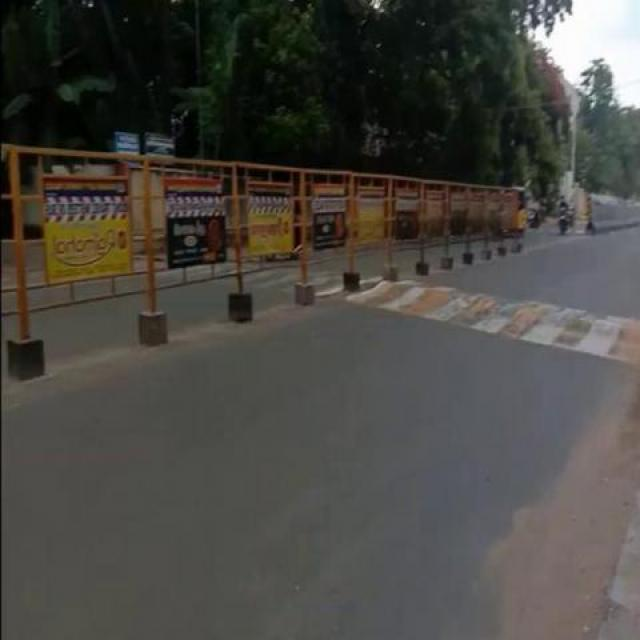Speed Bump: (361, 278, 638, 358), (259, 260, 294, 294), (314, 260, 344, 292)
